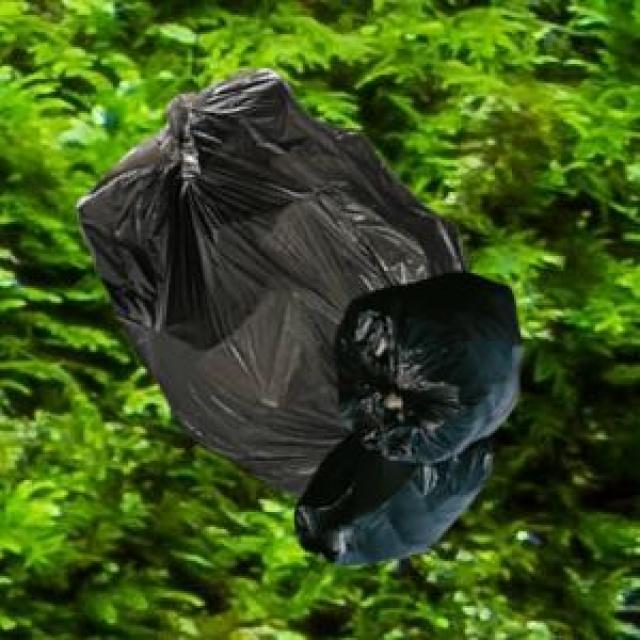waste: (81, 74, 519, 562)
